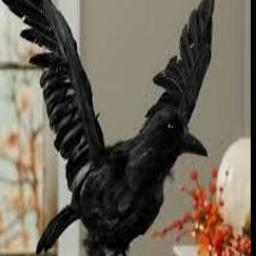Crow: (0, 0, 219, 256)
